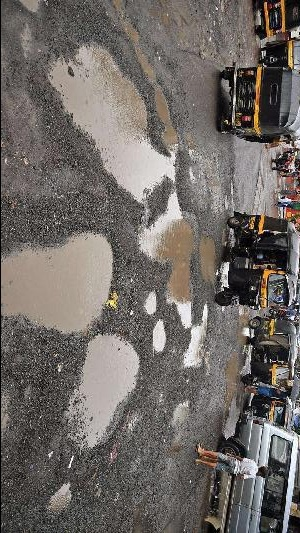pothole: (47, 35, 187, 202), (1, 227, 117, 332), (65, 331, 142, 450), (137, 187, 198, 334), (183, 301, 213, 370), (197, 232, 219, 285), (46, 480, 75, 519), (152, 318, 170, 355), (145, 288, 159, 316)
